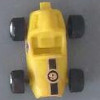carro: (10, 3, 84, 96)
